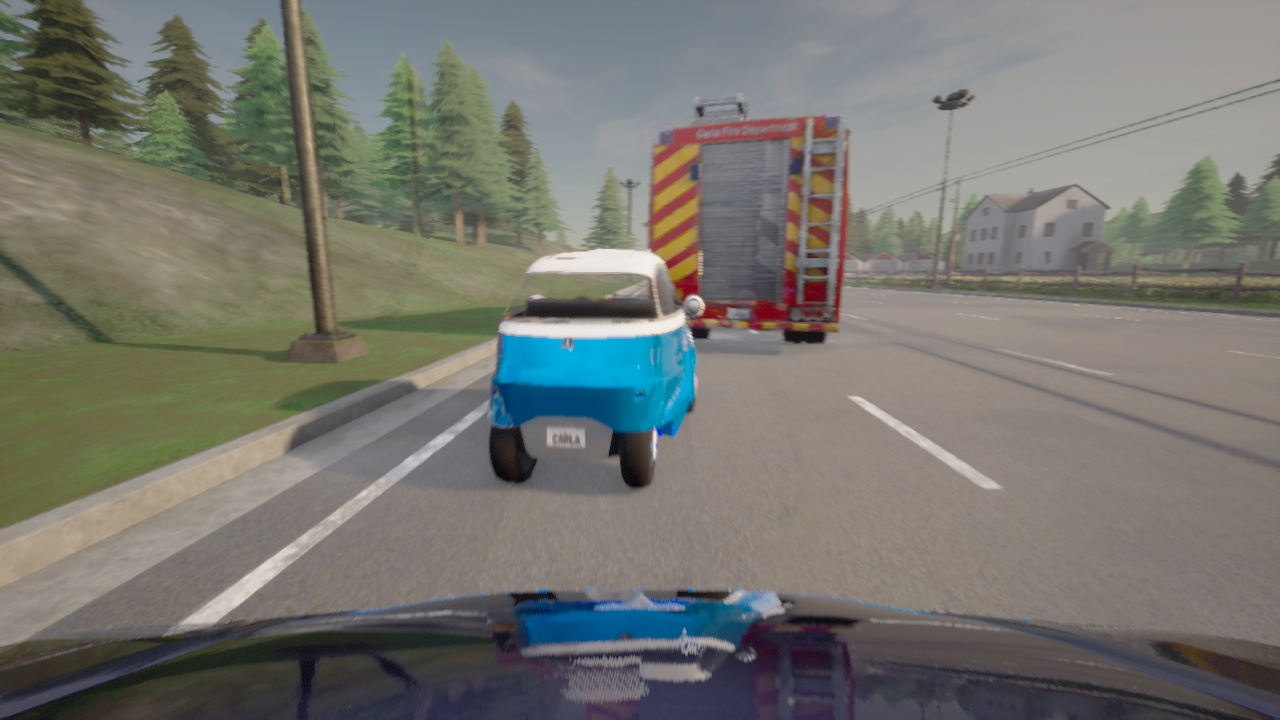cyclist: (0, 588, 1279, 719), (488, 250, 703, 488), (648, 92, 849, 342)
